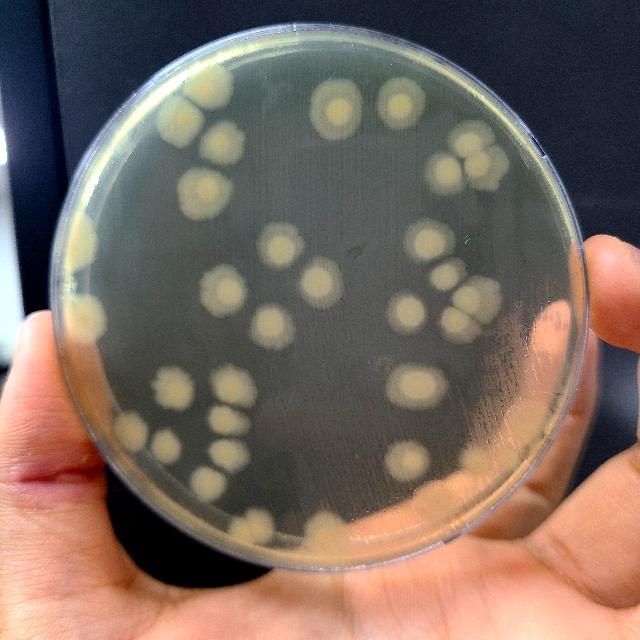colony: (311, 78, 364, 140), (177, 166, 233, 222), (377, 76, 428, 130), (386, 364, 448, 408), (255, 220, 307, 272), (202, 260, 248, 318), (298, 259, 347, 313), (453, 274, 503, 324), (246, 303, 298, 351), (300, 509, 350, 557), (157, 97, 203, 149), (183, 63, 237, 107), (64, 295, 110, 345), (64, 210, 100, 272), (464, 145, 512, 191), (406, 220, 454, 264), (209, 364, 257, 408), (412, 479, 460, 523), (200, 120, 247, 164), (423, 152, 467, 198), (153, 366, 197, 412), (385, 291, 427, 339), (448, 116, 496, 158), (385, 441, 429, 482), (438, 306, 482, 346), (113, 410, 149, 454), (512, 400, 548, 442), (207, 404, 253, 436), (209, 440, 251, 474), (430, 256, 468, 292), (192, 466, 230, 502), (247, 508, 277, 544), (152, 431, 182, 464), (462, 442, 492, 474), (228, 518, 256, 552), (494, 447, 522, 473)
